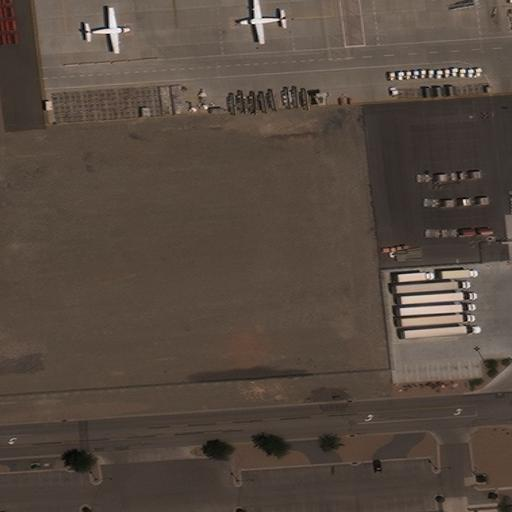Medium Civil Transport: (82, 7, 131, 54), (239, 0, 289, 43)
